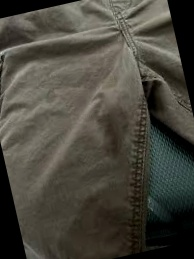oil: (90, 92, 131, 154), (44, 86, 56, 100)
